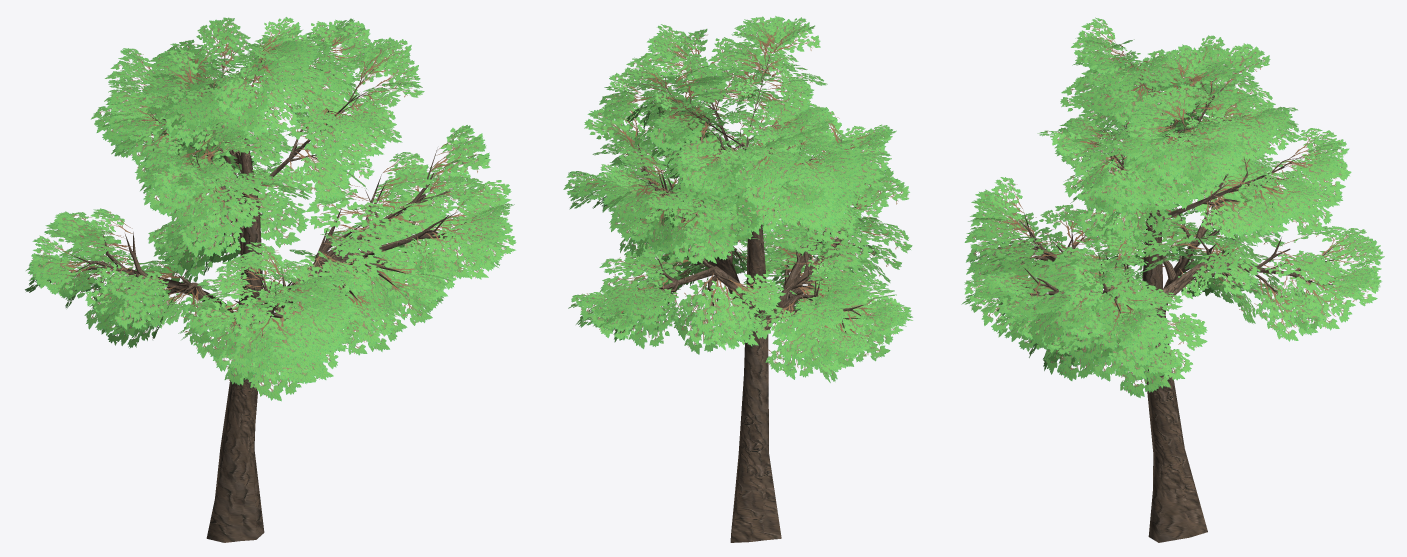
File: big-2-_3.fbx
3 renders of one model, left to right at view 1: azimuth 30°, elevation 25°; view 2: azimuth 150°, elevation 25°; view 3: azimuth 270°, elevation 25°, orthographic. The views are drawn at different scales.
Parts seen in each view (by area): view 1: big_2__3; view 2: big_2__3; view 3: big_2__3.
Part boxes in pixels (x1,y1,x2,y2): big_2__3: (25, 17, 516, 542); big_2__3: (563, 16, 912, 542); big_2__3: (961, 17, 1384, 542).
Bounding box in the file's own units: 23.4 × 27.79 × 21.84.
Materials: 3 (2 with a texture image).
